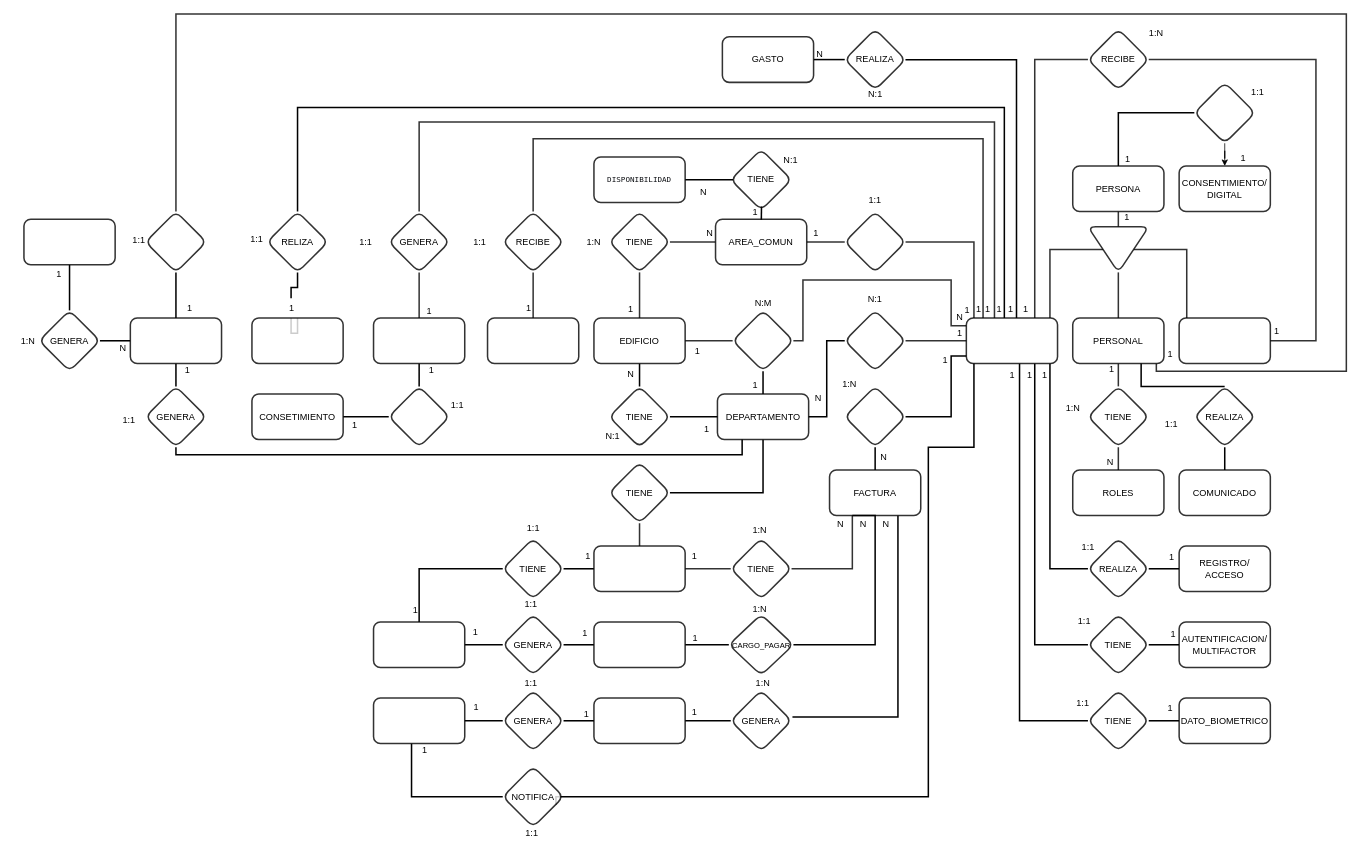
This 1360x856 diagram has some shape labels left out. Here are the shapes that lost their labels. From the top down, the centre of each, then its label:
At (x=1224, y=112): "OTORGA".
At (x=69, y=241): "HISTORIAL/ INCIDENTES".
At (x=175, y=241): "ATIENDE".
At (x=875, y=241): "RESERVA".
At (x=175, y=340): "INCIDENTE".
At (x=297, y=340): "INTERACCION/ USUARIO".
At (x=418, y=340): "EVENTO SEGURIDAD".
At (x=532, y=340): "COMUNICADO/ ANUNCIO".
At (x=763, y=340): "ACCEDE".
At (x=875, y=340): "PERTENECE".
At (x=1011, y=340): "USUARIO".
At (x=1224, y=340): "VISITANTE".
At (x=419, y=416): "REQUIERE".
At (x=875, y=416): "PAGA".
At (x=639, y=568): "SERVICIO".
At (x=418, y=644): "LECTURA_SENSOR".
At (x=639, y=644): "HISTORIAL_CONSUMO".
At (x=418, y=720): "ALERTA/ PREDICTIVA".
At (x=639, y=720): "HISTORIAL_PAGOS".
